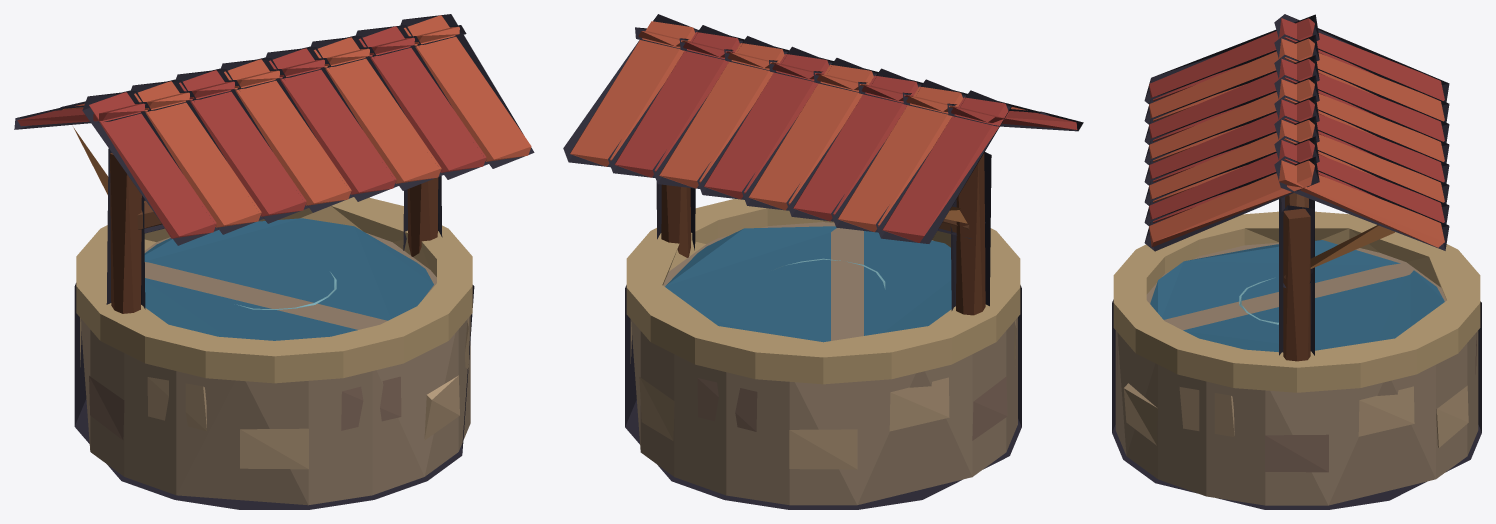
The model's file is well-lod1.glb.
3 views of the same model, side by side, from view 1: azimuth 30°, elevation 25°; view 2: azimuth 150°, elevation 25°; view 3: azimuth 270°, elevation 25° (orthographic). The views are drawn at different scales.
Visible parts, largest first — view 1: well; view 2: well; view 3: well.
Boxes of the visible parts, left/top/right/bottom form: well: left=14, top=14, right=534, bottom=509; well: left=563, top=14, right=1083, bottom=509; well: left=1112, top=14, right=1481, bottom=509.
Bounding box in the file's own units: 3.26 × 3.11 × 3.08.
